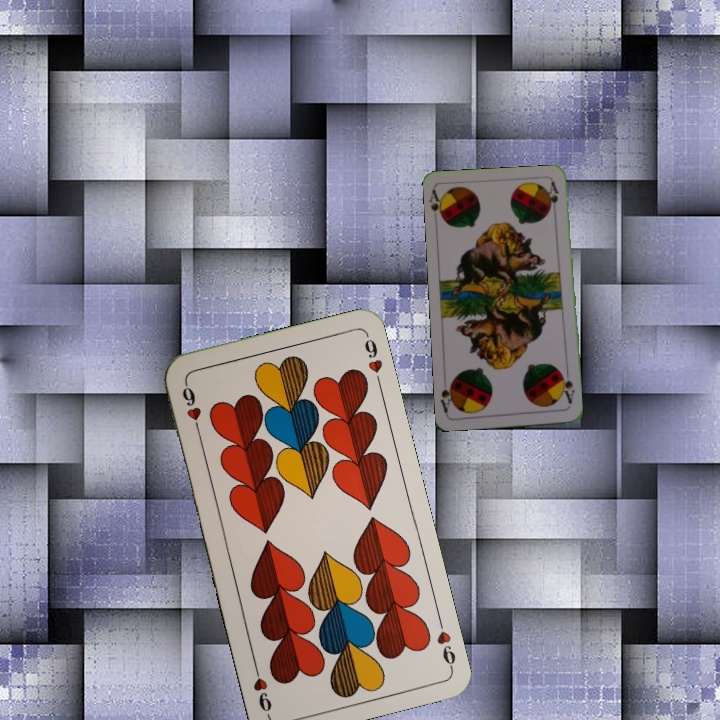H9: (178, 378, 204, 436), (433, 613, 458, 671)
SA: (426, 186, 447, 226), (557, 368, 577, 406)
